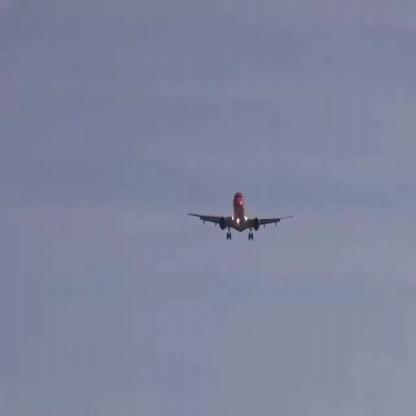CIV_Plane: (188, 191, 292, 239)
